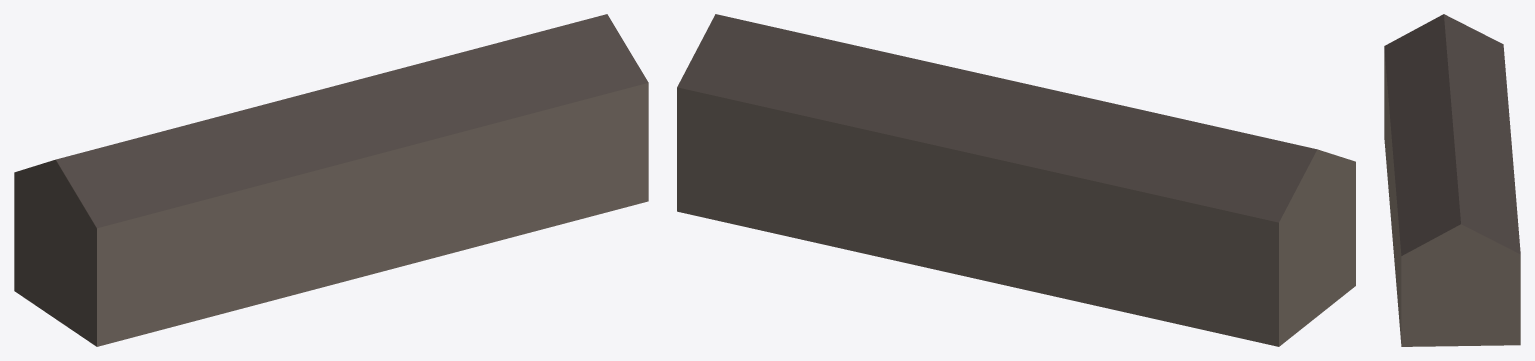
3 renders of one model, left to right at view 1: azimuth 30°, elevation 25°; view 2: azimuth 150°, elevation 25°; view 3: azimuth 270°, elevation 25°, orthographic. The views are drawn at different scales.
Visible parts, largest first — view 1: HP-w1287061523; view 2: HP-w1287061523; view 3: HP-w1287061523.
Part boxes in pixels (x1,y1,x2,y2): HP-w1287061523: (14,14,648,346); HP-w1287061523: (677,14,1355,346); HP-w1287061523: (1384,14,1520,346).
Bounding box in the file's own units: 30.05 × 8.07 × 8.18.
